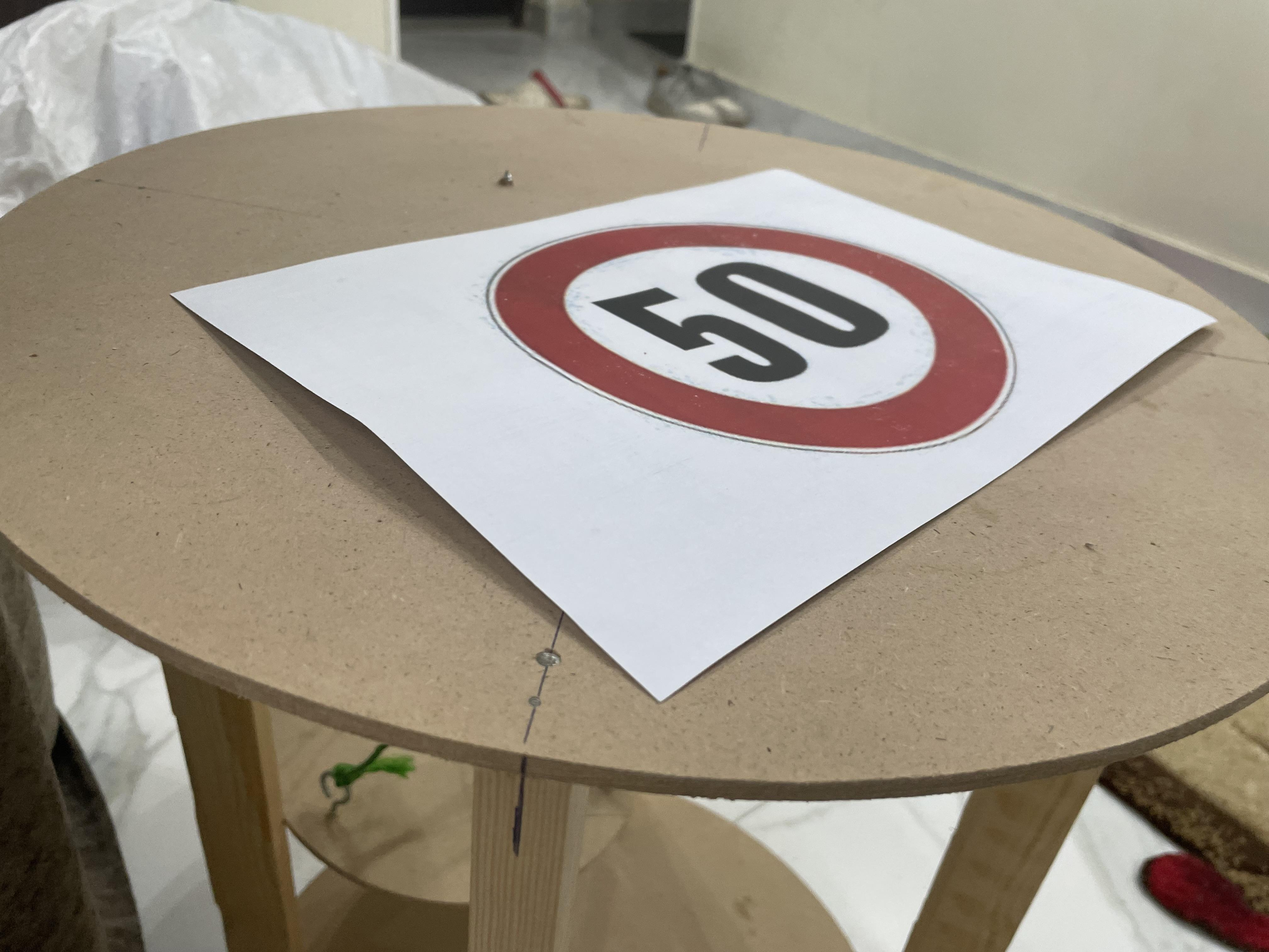50-Speed: (472, 195, 1038, 471)
